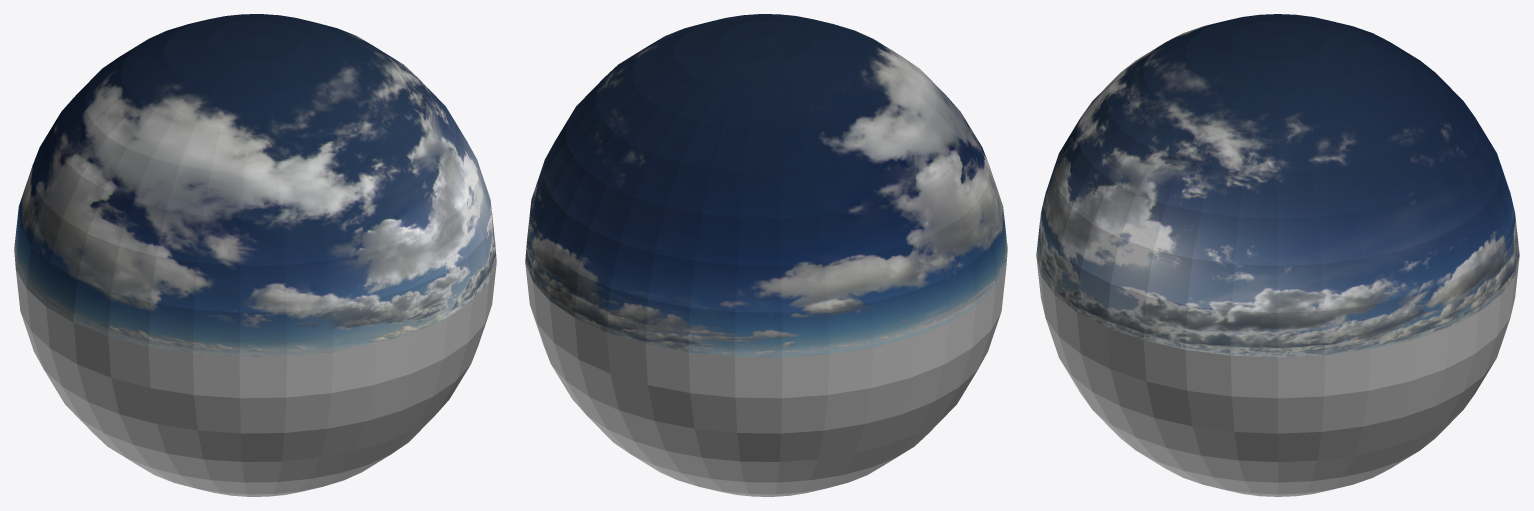
The model's file is skybox.obj.
3 views of the same model, side by side, from view 1: azimuth 30°, elevation 25°; view 2: azimuth 150°, elevation 25°; view 3: azimuth 270°, elevation 25° (orthographic).
Parts seen in each view (by area): view 1: Sphere; view 2: Sphere; view 3: Sphere.
Boxes of the visible parts, bbox=[...] form: Sphere: bbox=[14, 14, 496, 496]; Sphere: bbox=[525, 14, 1007, 496]; Sphere: bbox=[1036, 14, 1519, 496].
Size of the model in its own units: 2 by 2 by 2.
